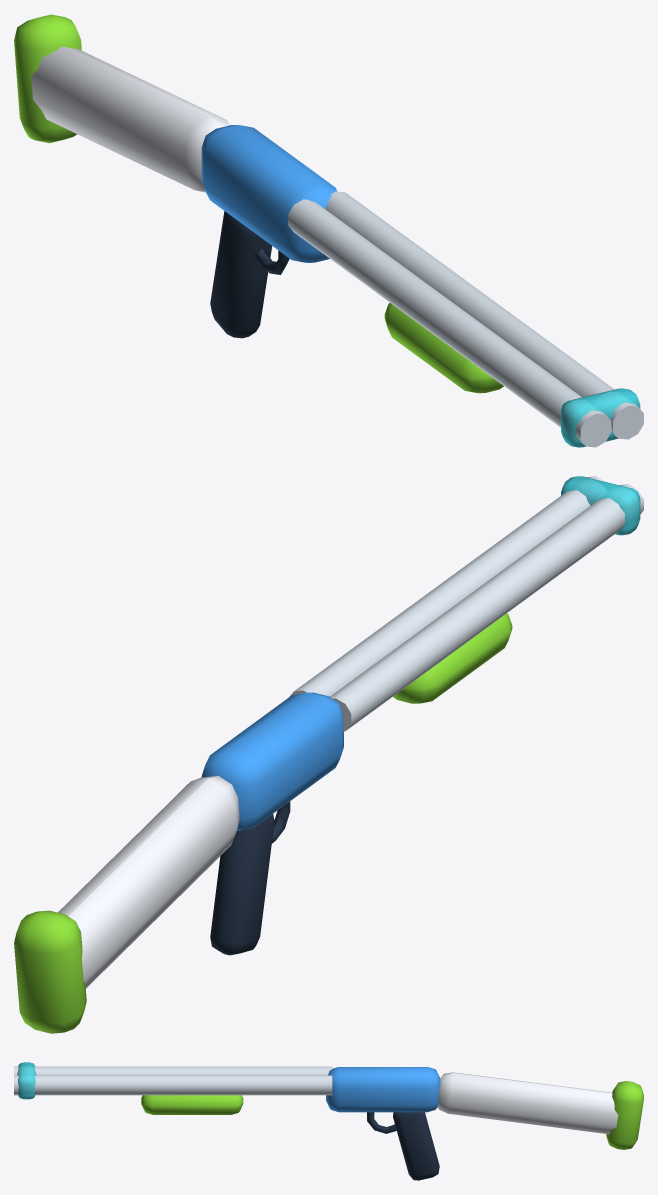
The model's file is Shotgun.fbx.
3 views of the same model, one above another, from view 1: azimuth 30°, elevation 25°; view 2: azimuth 150°, elevation 25°; view 3: azimuth 270°, elevation 25° (orthographic). The views are drawn at different scales.
Parts seen in each view (by area): view 1: Shotgun; view 2: Shotgun; view 3: Shotgun.
Part boxes in pixels (box(x1,y1,x2,y2)): Shotgun: box(14, 14, 643, 447); Shotgun: box(14, 476, 643, 1033); Shotgun: box(14, 1062, 643, 1180).
Size of the model in its own units: 0.07 by 0.1907 by 0.9896.
